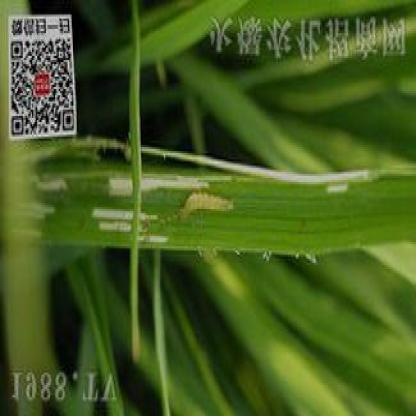leaf-folder: (163, 180, 272, 228)
